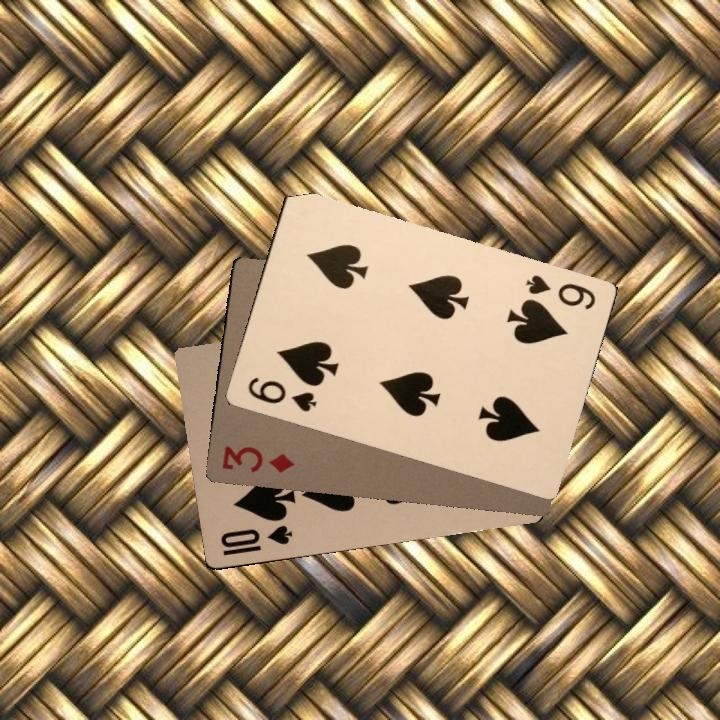10s: (216, 521, 295, 558)
3d: (218, 442, 297, 476)
6s: (521, 270, 598, 313), (243, 372, 319, 415)
